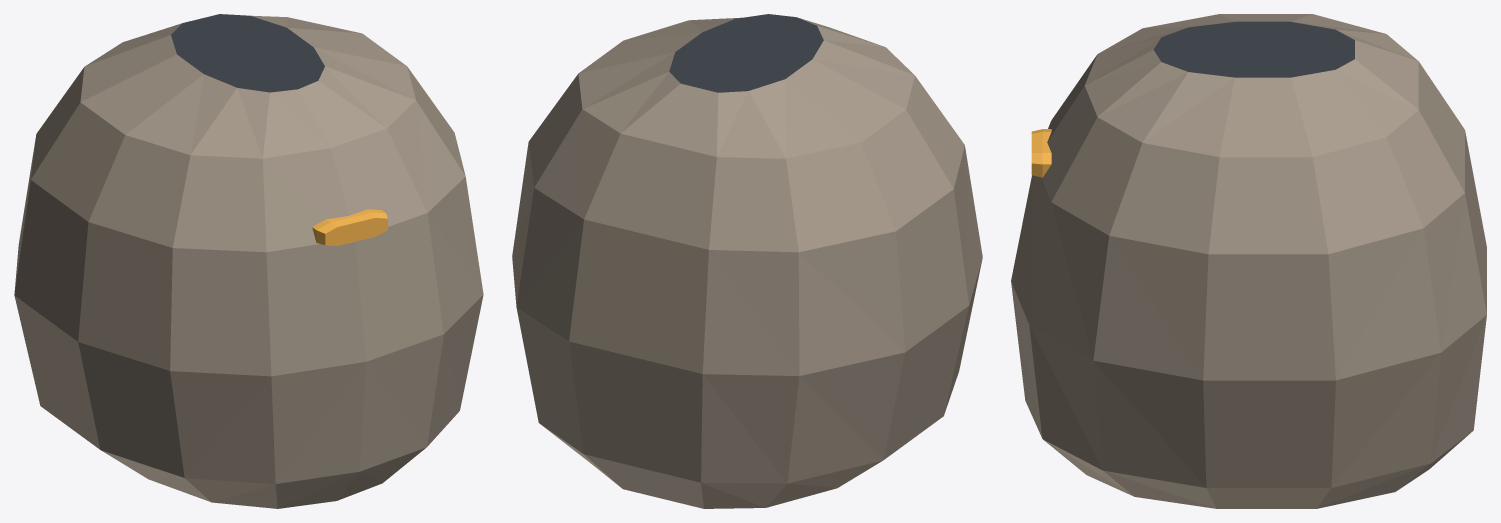
The model's file is pauldron_light.glb.
3 views of the same model, side by side, from view 1: azimuth 30°, elevation 25°; view 2: azimuth 150°, elevation 25°; view 3: azimuth 270°, elevation 25° (orthographic). The views are drawn at different scales.
Parts seen in each view (by area): view 1: pauldron_light; view 2: pauldron_light; view 3: pauldron_light.
Part boxes in pixels (x1,y1,x2,y2): pauldron_light: (14,14,483,508); pauldron_light: (512,14,982,508); pauldron_light: (1011,14,1486,508).
Bounding box in the file's own units: 1.07 × 1 × 1.08.
